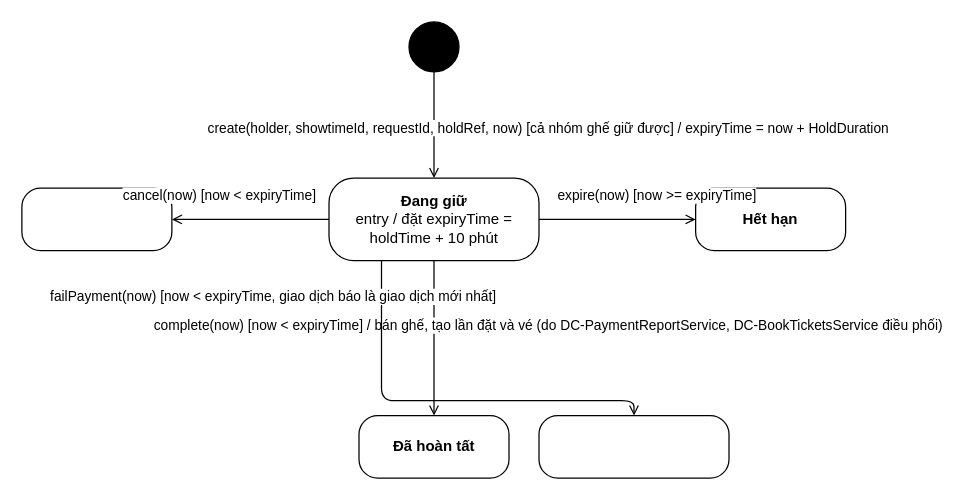
This 964x500 diagram has some shape labels left out. The shapes that lost their labels are listed below. From the top down, each one's centre as x and y in pixels, then its label:
At pixel 96 219: "Đã huỷ".
At pixel 633 446: "Thanh toán thất bại".
